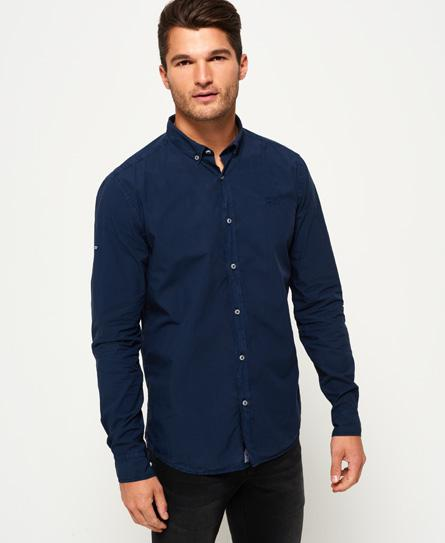teeshirt: (79, 113, 372, 499)
